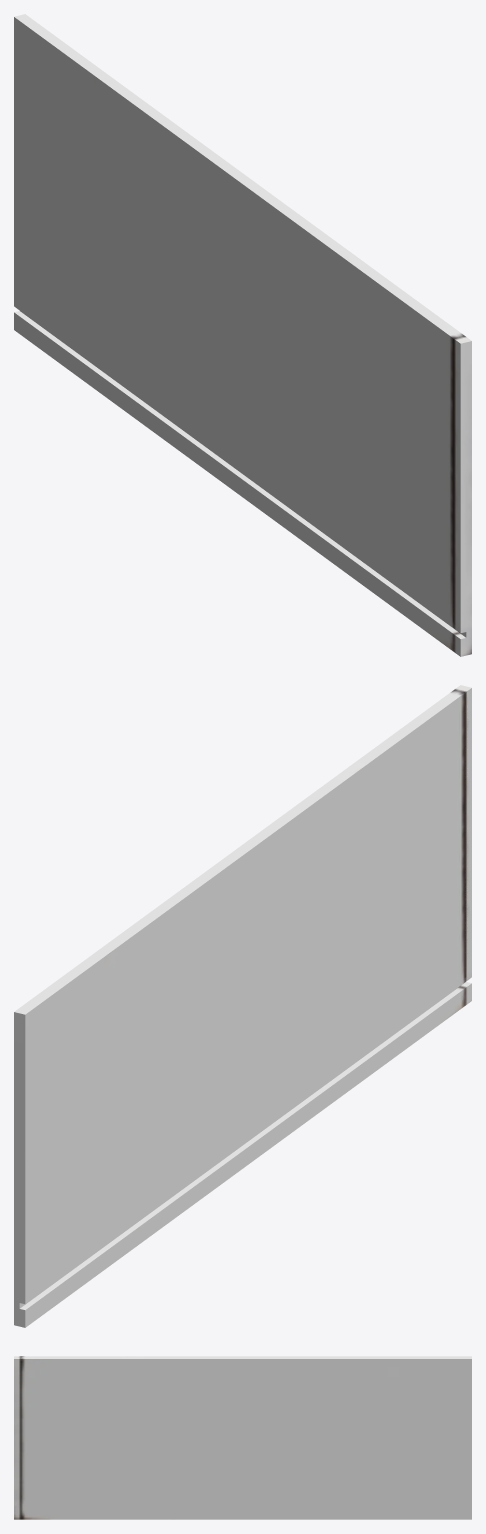
File: link_5__drawer_side-115.glb
3 renders of one model, top to bottom at view 1: azimuth 30°, elevation 25°; view 2: azimuth 150°, elevation 25°; view 3: azimuth 270°, elevation 25°, orthographic. The views are drawn at different scales.
Parts seen in each view (by area): view 1: world; view 2: world; view 3: world.
Boxes of the visible parts, left/top/right/bottom form: world: left=14, top=14, right=471, bottom=656; world: left=14, top=685, right=471, bottom=1327; world: left=14, top=1356, right=471, bottom=1519.
Size of the model in its own units: 0.00525 by 0.1392 by 0.3597.
Materials: 1 (1 with a texture image).
